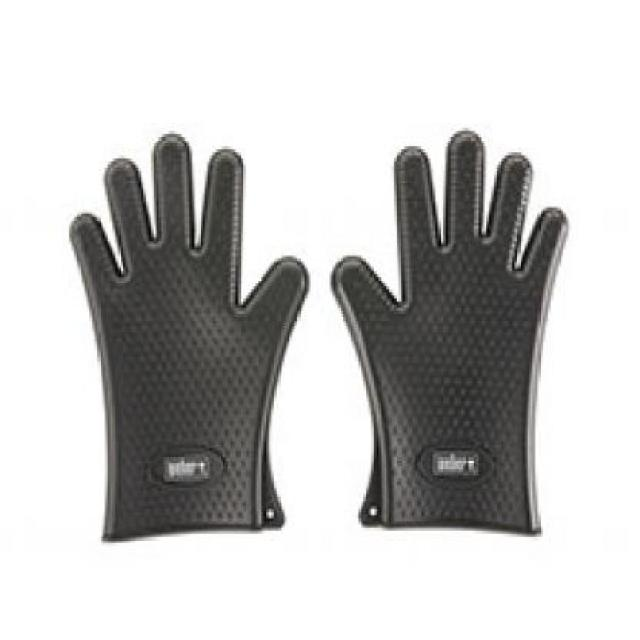gloved_hand: (42, 130, 309, 541), (326, 131, 572, 540)
